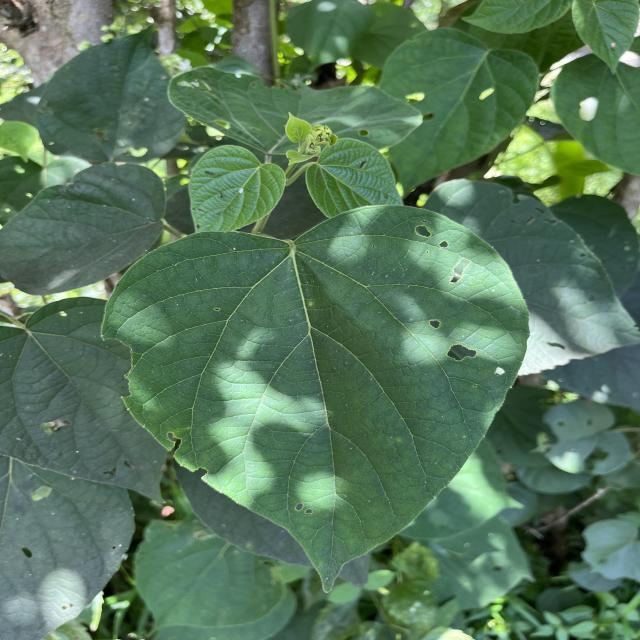Clerodendrum infortunatum: (101, 202, 494, 598), (0, 294, 169, 506), (184, 142, 290, 238), (304, 136, 404, 207)
